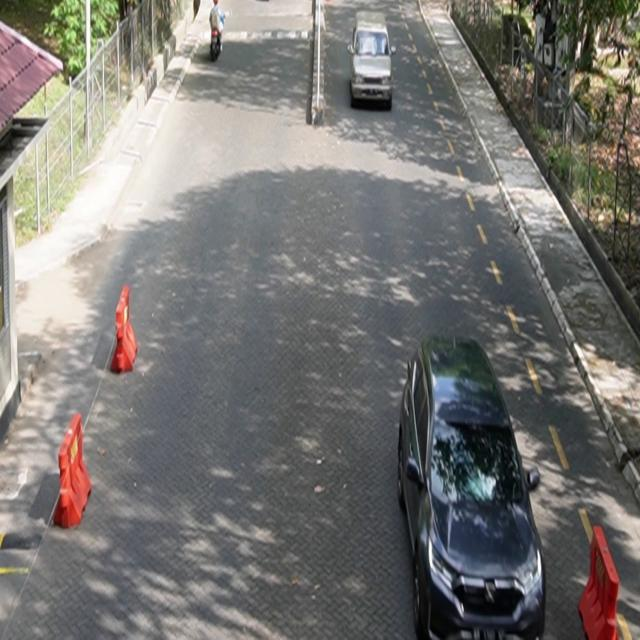car: (398, 334, 547, 640), (348, 11, 397, 111)
